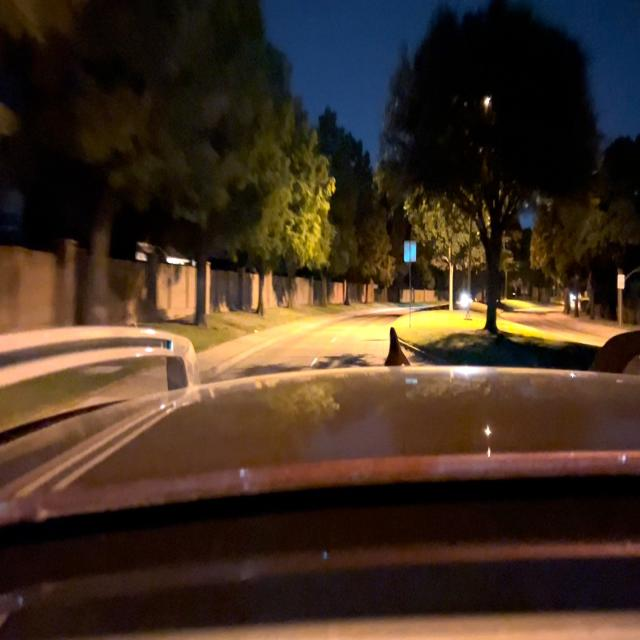back-of-sign: (404, 242, 417, 262)
